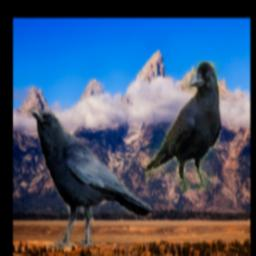Crow: (28, 109, 152, 249), (145, 61, 221, 192)
